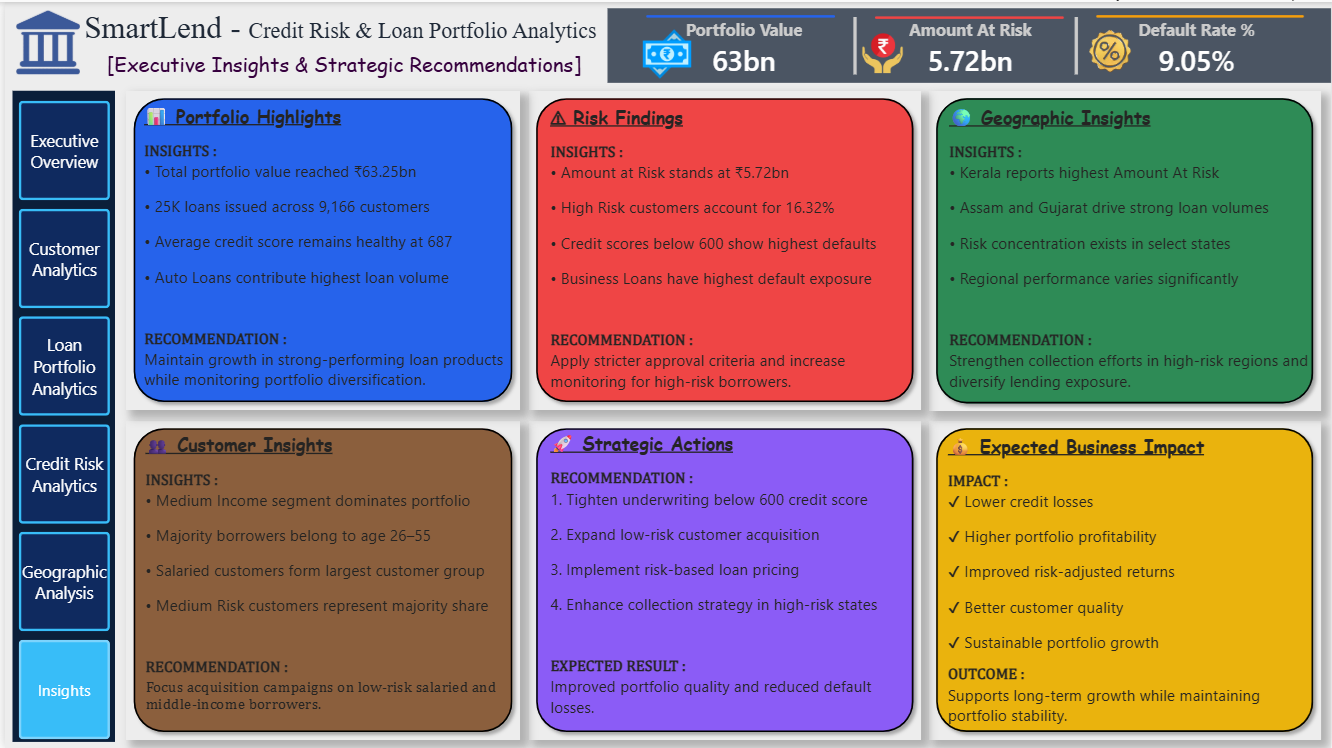

Layout of this report page (visuals, bound fields, positions):
{"tool":"powerbi","page":{"name":" Insights ","canvas":[1600,900],"ordinal":5},"visuals":[{"type":"shape","box":[9,107.1,123.7,785.7],"z":0},{"type":"shape","box":[726.9,7.5,873.2,90],"z":1000},{"type":"shape","box":[146.3,505.2,474.9,384.6],"z":1000,"group":"g1"},{"type":"image","box":[13.6,0,76.9,98],"z":2000},{"type":"shape","box":[1115.1,505.2,472.9,384.5],"z":2000,"group":"g1"},{"type":"textbox","box":[90.5,0,636.4,63.3],"z":3000},{"type":"shape","box":[146.3,107.1,474.9,384.6],"z":4000,"group":"g1"},{"type":"pageNavigator","box":[16.6,119.1,110.1,770.6],"z":4000},{"type":"group","id":"g1","title":"Group 1","box":[146.3,107.1,1441.7,782.7],"z":5000},{"type":"shape","box":[1115.1,107.1,472.9,386.2],"z":5000,"group":"g1"},{"type":"cardVisual","fields":{"Data":["00_Measures.Total Loan Amount","00_Measures.Amount At Risk","00_Measures.Default Rate"]},"box":[742,7.5,846,96.5],"z":6000},{"type":"shape","box":[773.6,6,227.7,22.6],"z":7000},{"type":"shape","box":[1049.6,7.5,227.7,22.6],"z":8000},{"type":"shape","box":[1316.5,6,250.3,22.6],"z":9000},{"type":"shape","box":[1001.3,18.1,48.3,69.4],"z":10000},{"type":"shape","box":[1268.3,18.1,48.3,69.4],"z":11000},{"type":"image","box":[1292.4,33.2,82.9,54.3],"z":12000},{"type":"image","box":[1025.5,36.2,66.4,51.3],"z":13000},{"type":"image","box":[763.1,33.2,70.9,58.8],"z":14000},{"type":"textbox","box":[90.5,52.8,636.4,45.2],"z":15000},{"type":"shape","box":[632.2,505.2,473.2,384.6],"z":24000,"group":"g1"},{"type":"shape","box":[632.2,107.1,473.2,384.6],"z":25000,"group":"g1"},{"type":"textbox","box":[162.5,117.5,452.4,362.4],"z":26000,"group":"g1"},{"type":"textbox","box":[164,514,444.9,365.3],"z":27000,"group":"g1"},{"type":"textbox","box":[652.6,119,438.8,362.4],"z":28000,"group":"g1"},{"type":"textbox","box":[652.6,512.5,438.8,365.3],"z":29000,"group":"g1"},{"type":"textbox","box":[1133.6,119,443.4,362.4],"z":30000,"group":"g1"},{"type":"textbox","box":[1132.1,515.5,444.9,363.9],"z":31000,"group":"g1"}]}

Visuals, with their boxes in screenshot pixels (x1, y1, x2, y2), scaled from the page's 1600x900 canvas onto the 1332x748 screenshot:
shape: 7 89 110 742
shape: 605 6 1331 81
shape: 122 420 517 740
image: 11 0 75 81
shape: 928 420 1322 739
textbox: 75 0 605 53
shape: 122 89 517 409
pageNavigator: 14 99 105 739
"Group 1" group: 122 89 1322 740
shape: 928 89 1322 410
cardVisual - 00_Measures.Total Loan Amount x 00_Measures.Amount At Risk: 618 6 1322 86
shape: 644 5 834 24
shape: 874 6 1063 25
shape: 1096 5 1304 24
shape: 834 15 874 73
shape: 1056 15 1096 73
image: 1076 28 1145 73
image: 854 30 909 73
image: 635 28 694 76
textbox: 75 44 605 81
shape: 526 420 920 740
shape: 526 89 920 409
textbox: 135 98 512 399
textbox: 137 427 507 731
textbox: 543 99 909 400
textbox: 543 426 909 730
textbox: 944 99 1313 400
textbox: 942 428 1313 731
